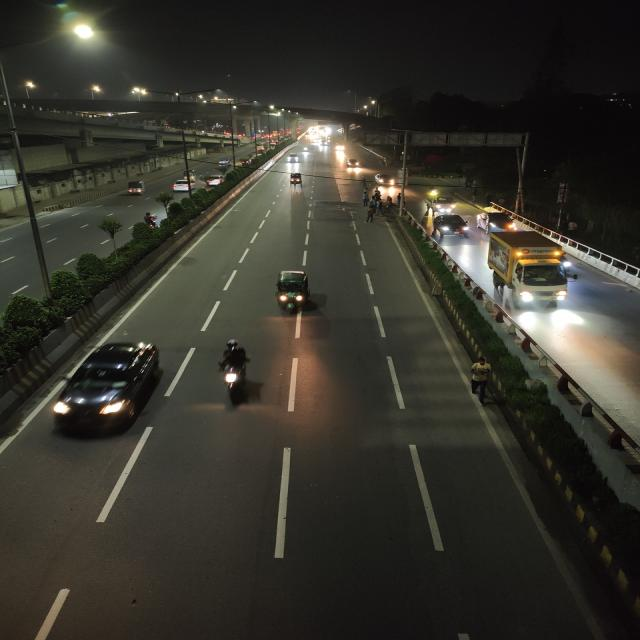bus: (484, 231, 578, 311)
car: (42, 336, 173, 442), (431, 212, 471, 240), (476, 211, 522, 233), (170, 177, 195, 193), (373, 172, 397, 186), (202, 174, 225, 188), (284, 153, 301, 163)
cng: (266, 267, 321, 317), (124, 178, 148, 198), (288, 171, 306, 188), (344, 157, 363, 170)
motorcycle: (209, 338, 258, 404), (426, 186, 442, 198)
pedestrian: (464, 356, 499, 404), (363, 202, 378, 224)
pickup_van: (216, 157, 233, 169)
